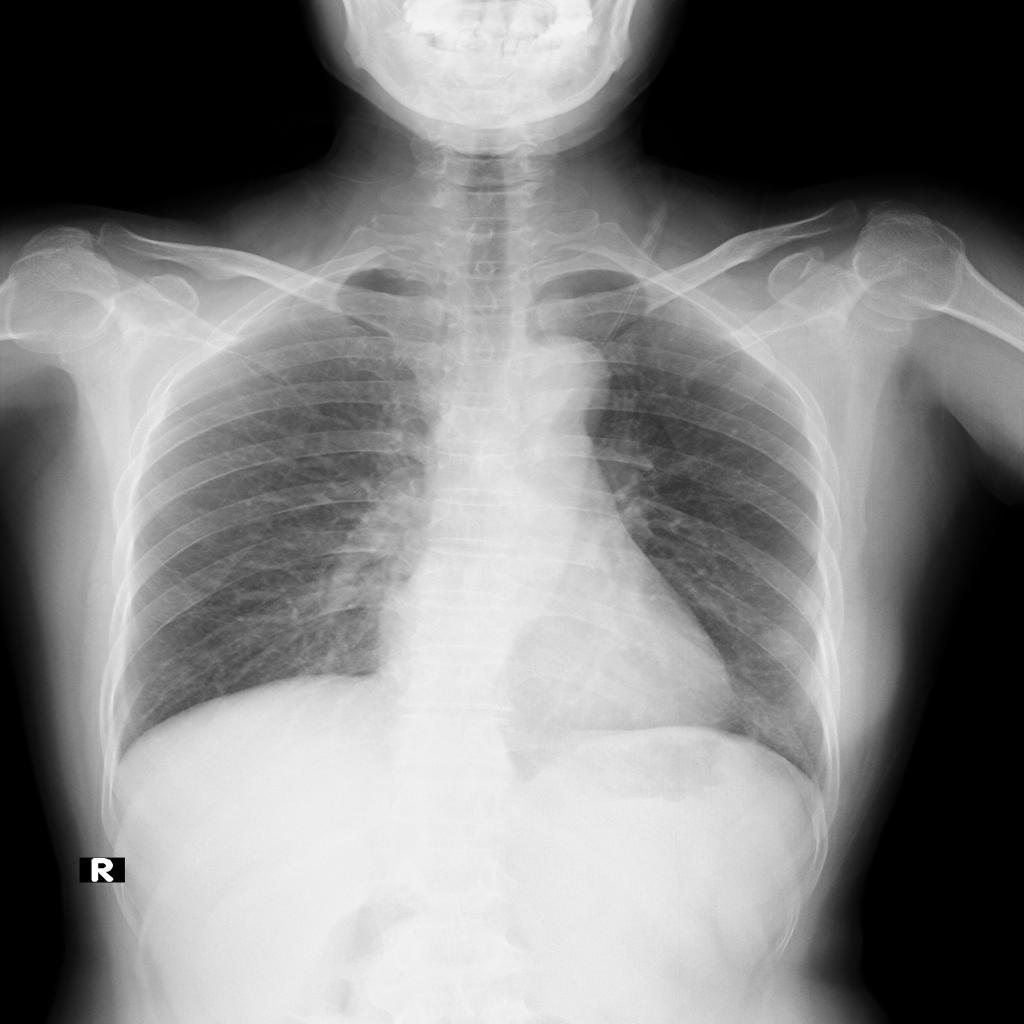Nodule: (757, 627, 799, 660)
